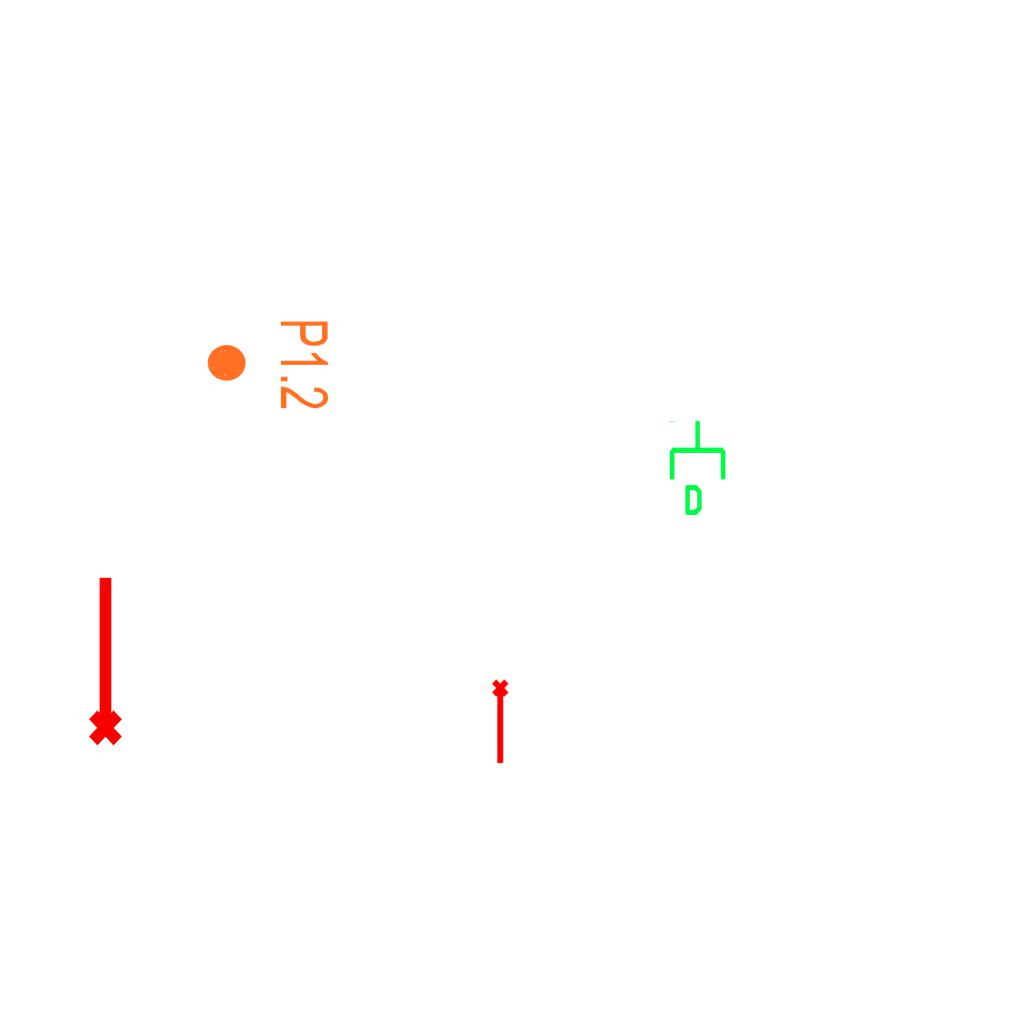ASR_Ansaugoeffnung: (80, 572, 126, 748), (490, 678, 513, 766)
Datenanschluss_einfach: (665, 418, 734, 518)
Downlight_LED_Einbauleuchten_Flur: (204, 318, 332, 411)
